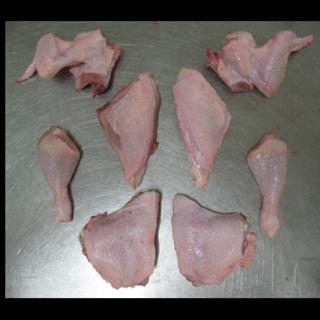Ayam: (77, 189, 163, 291), (95, 70, 165, 192), (172, 192, 259, 290), (171, 67, 236, 192), (205, 28, 316, 101), (13, 29, 125, 101), (36, 125, 86, 226), (247, 132, 293, 240)
